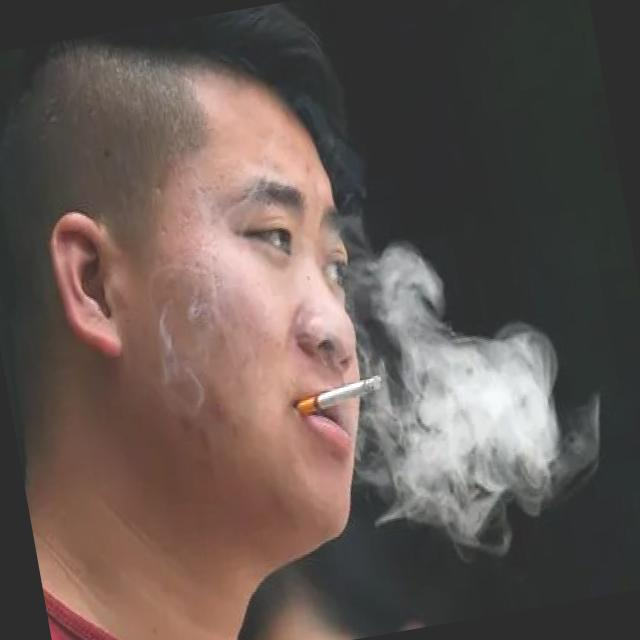smoke: (285, 363, 396, 428)
